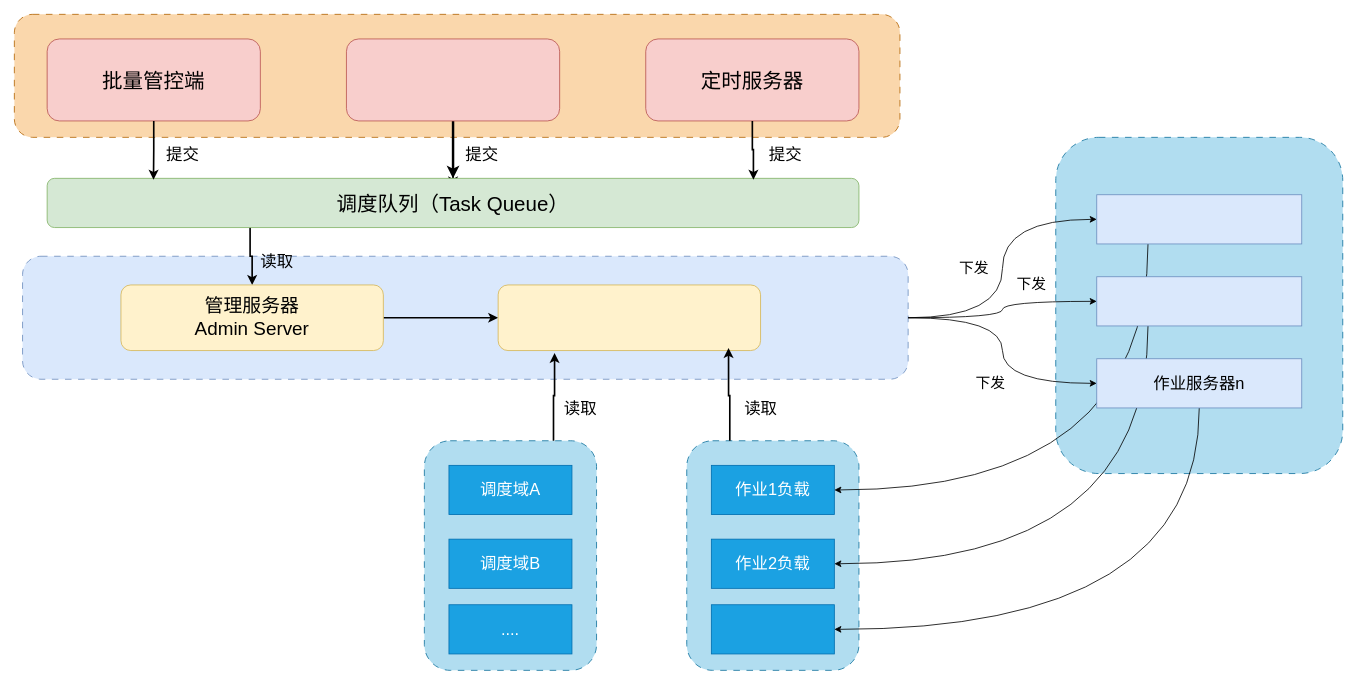
Some shapes in this 1357 by 685 pixel diagram are drawn without their labels. The shapes that lost their labels are listed below. From the top down, each one's centre as x and y in pixels, then its label:
At (453,79): "联机服务器".
At (1199,219): "作业服务器1".
At (629,317): "任务服务器 Task Server".
At (1199,301): "作业服务器2".
At (772,629): "作业n负载".
